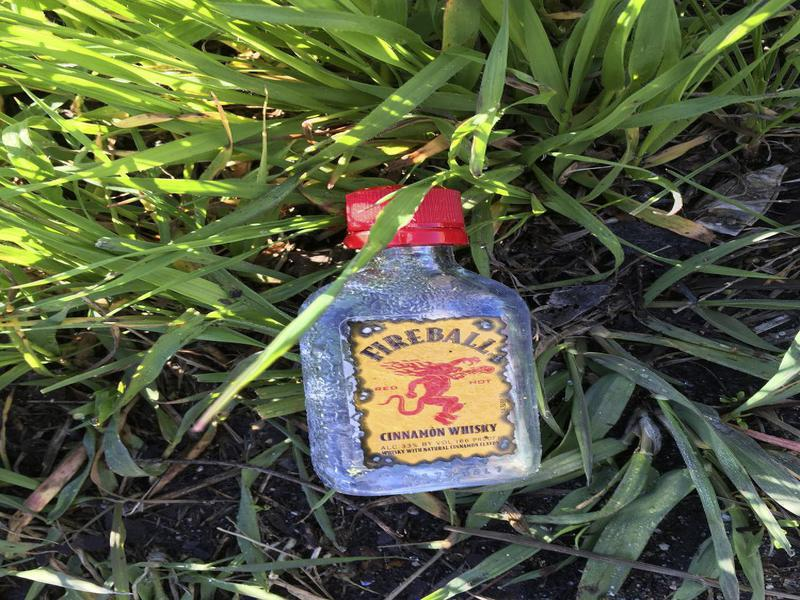bottle: (282, 175, 555, 500)
